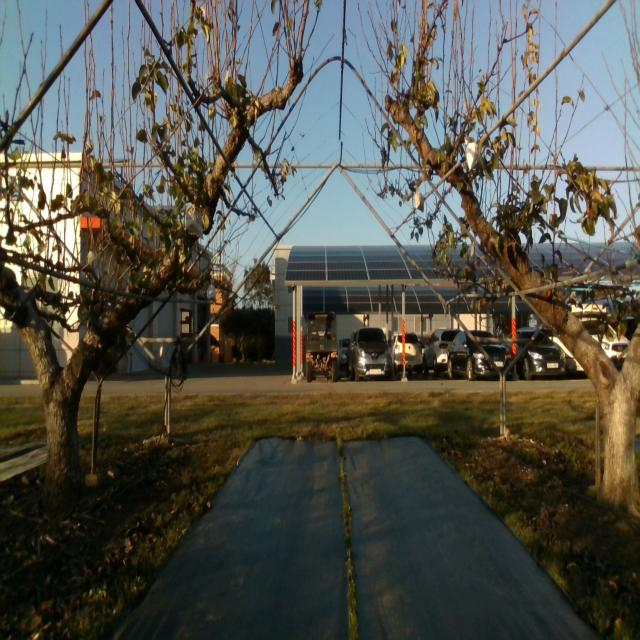pearbags: (185, 204, 204, 241), (465, 138, 478, 172)
